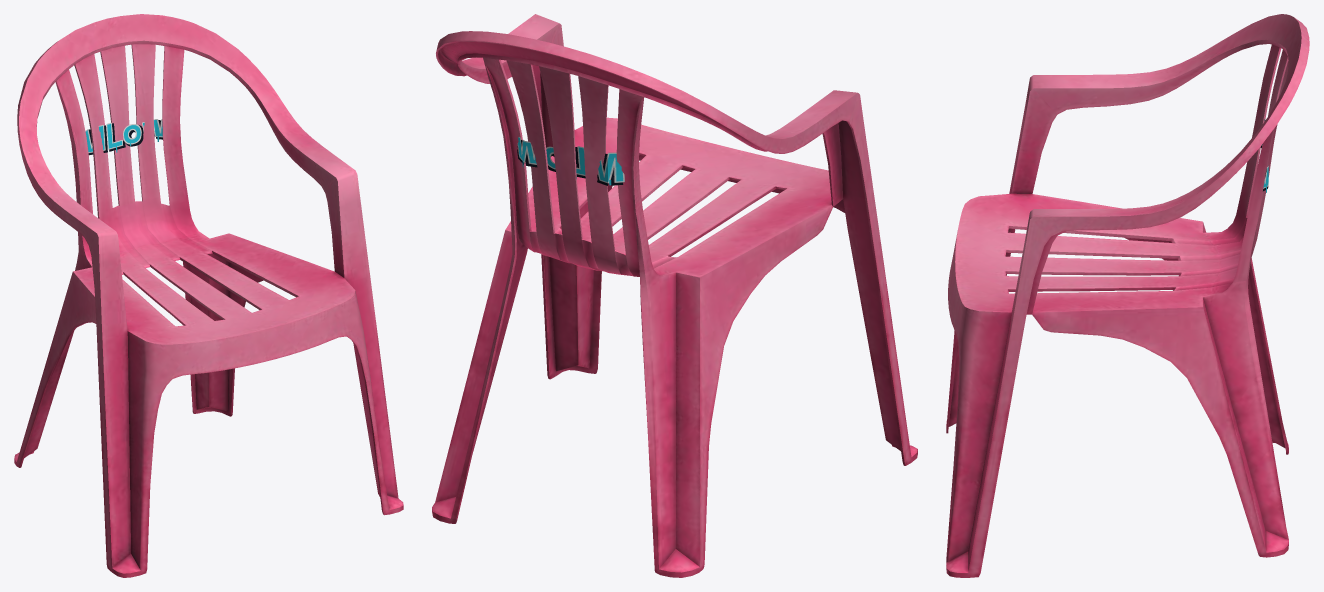
Rendered from nyb_birdman_chair.glb.
The picture shows the model from 3 angles, left to right: view 1: azimuth 30°, elevation 25°; view 2: azimuth 150°, elevation 25°; view 3: azimuth 270°, elevation 25°; orthographic projection. The views are drawn at different scales.
Parts seen in each view (by area): view 1: plastic_monobloc_chair_01, stk_tag_mlow_cyan.png; view 2: plastic_monobloc_chair_01, stk_tag_mlow_cyan.png; view 3: plastic_monobloc_chair_01.
Part boxes in pixels (x1,y1,x2,y2): plastic_monobloc_chair_01: (14, 14, 403, 577); stk_tag_mlow_cyan.png: (85, 119, 162, 155); plastic_monobloc_chair_01: (432, 14, 917, 577); stk_tag_mlow_cyan.png: (517, 137, 624, 185); plastic_monobloc_chair_01: (946, 14, 1309, 577).
Bounding box in the file's own units: 0.6419 × 0.8798 × 0.6276.
2 materials, 2 textured.
